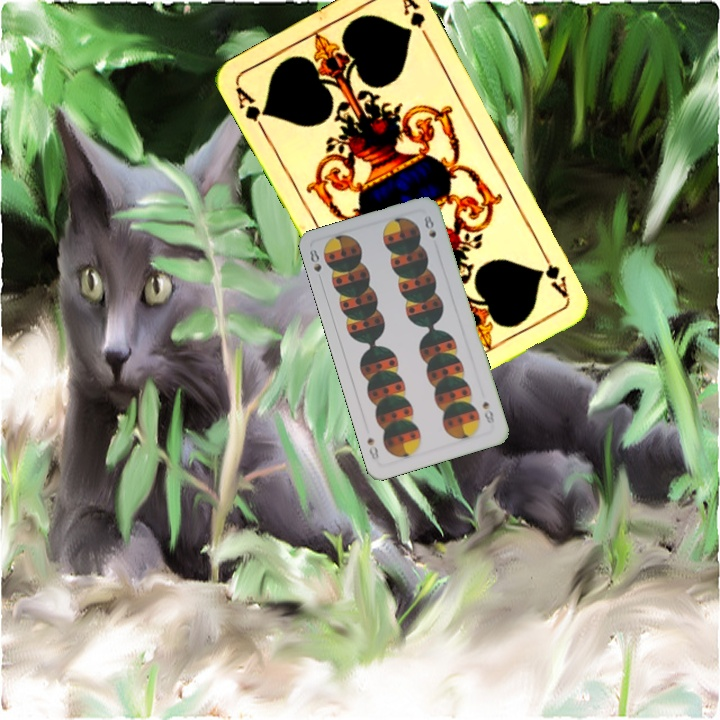GA: (231, 82, 271, 136), (536, 245, 571, 301)
S8: (305, 245, 325, 285), (478, 397, 497, 426)
